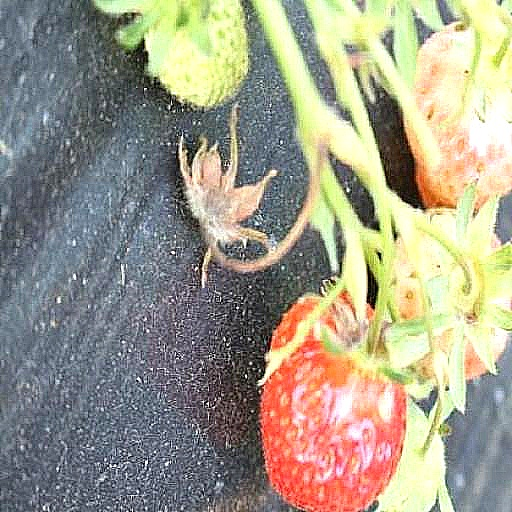Gray Mold: (179, 104, 282, 289)
